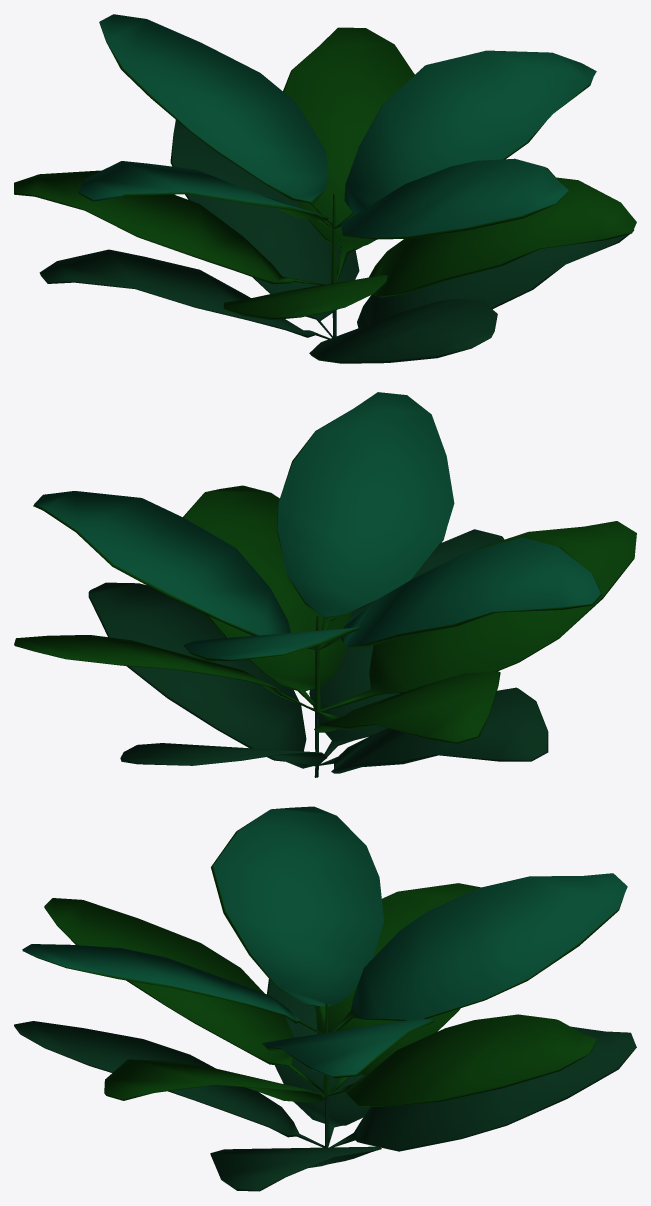
Rendered from Plant_3.fbx.
3 renders of one model, top to bottom at view 1: azimuth 30°, elevation 25°; view 2: azimuth 150°, elevation 25°; view 3: azimuth 270°, elevation 25°, orthographic. The views are drawn at different scales.
Parts seen in each view (by area): view 1: Cylinder.001; view 2: Cylinder.001; view 3: Cylinder.001.
Part boxes in pixels (<box>): Cylinder.001: <box>14,14,636,363</box>; Cylinder.001: <box>14,392,636,777</box>; Cylinder.001: <box>14,806,636,1191</box>.
Size of the model in its own units: 195 by 87.9 by 202.
